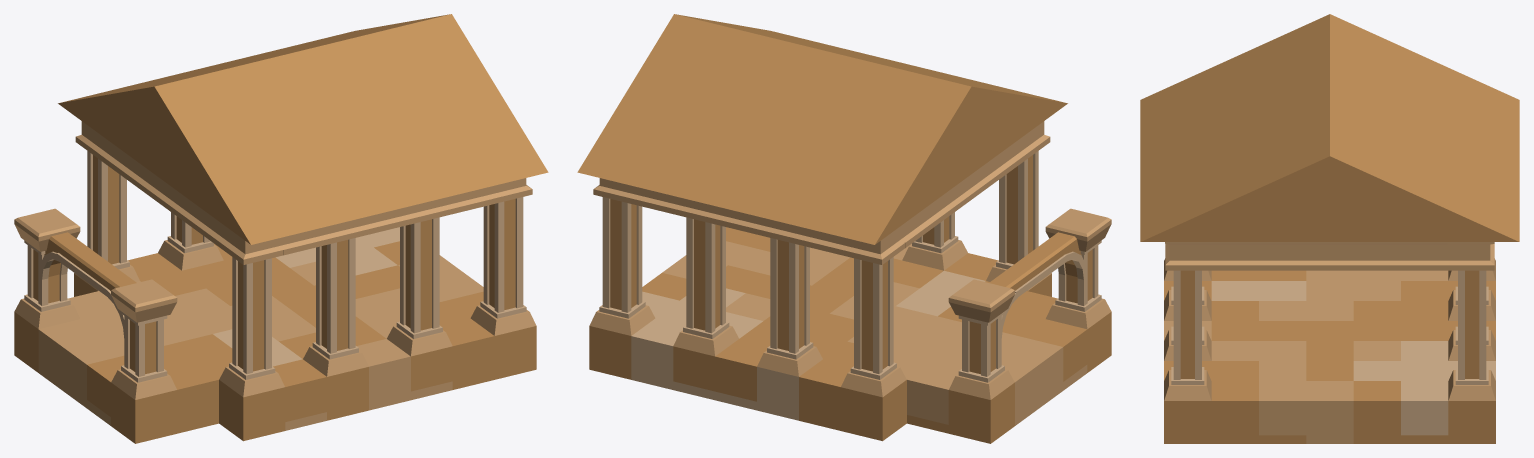
Rendered from Temple1.fbx.
The picture shows the model from 3 angles, left to right: view 1: azimuth 30°, elevation 25°; view 2: azimuth 150°, elevation 25°; view 3: azimuth 270°, elevation 25°; orthographic projection. The views are drawn at different scales.
Visible parts, largest first — view 1: wedge (×18), block (×33), Pillar_Large_Base (×8), Pillar_Large_Middle (×10), overhang-straight (×9), Pillar_Large_Beam_Attached (×2), overhang-corner (×3), Pillar_Large_Beam (×2); view 2: wedge (×18), block (×33), Pillar_Large_Base (×8), Pillar_Large_Middle (×10), overhang-straight (×8), Pillar_Large_Beam_Attached (×2), overhang-corner (×3), Pillar_Large_Beam (×2); view 3: wedge (×32), block (×41), overhang-straight (×5), Pillar_Large_Base (×6), Pillar_Large_Middle (×4), overhang-corner (×2).
Part boxes in pixels (x1,y1,x2,y2): wedge (×18): [58, 14, 548, 244]; block (×33): [14, 95, 536, 443]; Pillar_Large_Base (×8): [14, 212, 536, 399]; Pillar_Large_Middle (×10): [87, 151, 523, 347]; overhang-straight (×9): [98, 137, 492, 255]; Pillar_Large_Beam_Attached (×2): [14, 208, 177, 350]; overhang-corner (×3): [75, 121, 532, 264]; Pillar_Large_Beam (×2): [56, 239, 125, 294]; wedge (×18): [577, 14, 1067, 244]; block (×33): [589, 95, 1111, 443]; Pillar_Large_Base (×8): [589, 212, 1111, 399]; Pillar_Large_Middle (×10): [602, 151, 1038, 347]; overhang-straight (×8): [633, 137, 1027, 254]; Pillar_Large_Beam_Attached (×2): [948, 208, 1111, 350]; overhang-corner (×3): [593, 121, 1050, 264]; Pillar_Large_Beam (×2): [995, 243, 1064, 298]; wedge (×32): [1140, 14, 1519, 241]; block (×41): [1164, 199, 1495, 443]; overhang-straight (×5): [1210, 242, 1449, 270]; Pillar_Large_Base (×6): [1164, 286, 1495, 400]; Pillar_Large_Middle (×4): [1173, 270, 1486, 353]; overhang-corner (×2): [1165, 242, 1494, 270].
Bounding box in the file's own units: 90 × 67 × 80.
